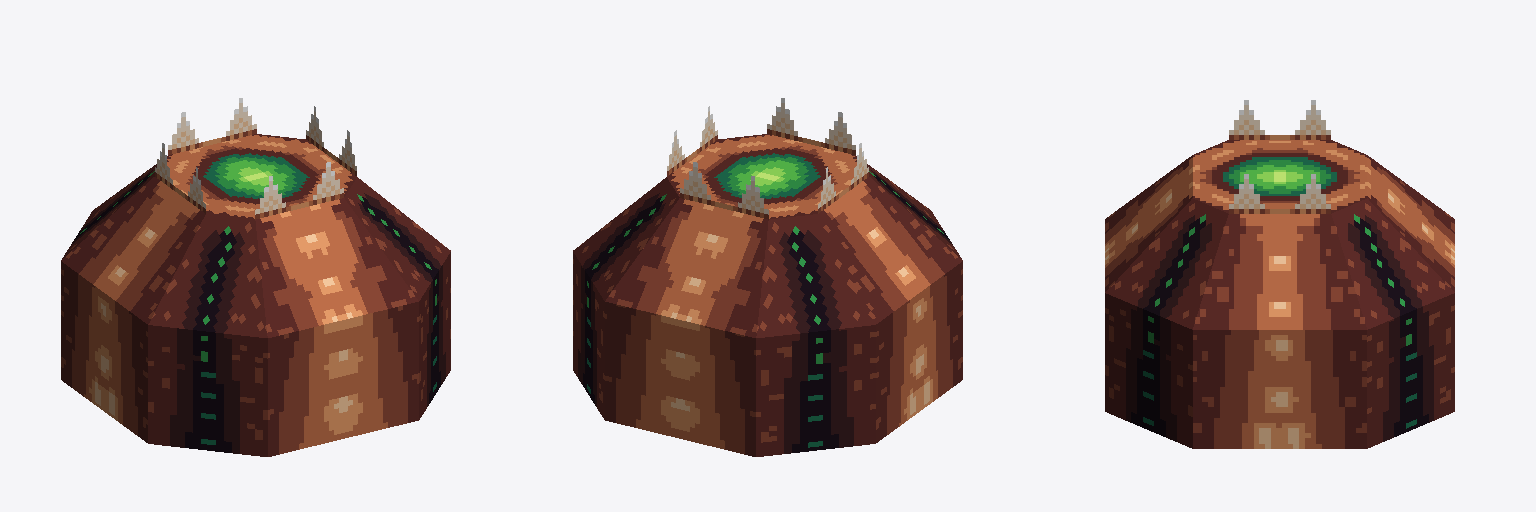
3 views of the same model, side by side, from view 1: azimuth 30°, elevation 25°; view 2: azimuth 150°, elevation 25°; view 3: azimuth 270°, elevation 25° (orthographic).
Visible parts, largest first — view 1: Cube; view 2: Cube; view 3: Cube.
Boxes of the visible parts, x1=… form: Cube: x1=61, y1=98, x2=450, y2=456; Cube: x1=573, y1=98, x2=962, y2=456; Cube: x1=1105, y1=100, x2=1454, y2=448.
Size of the model in its own units: 4 by 3 by 4.
Materials: 1 (1 with a texture image).